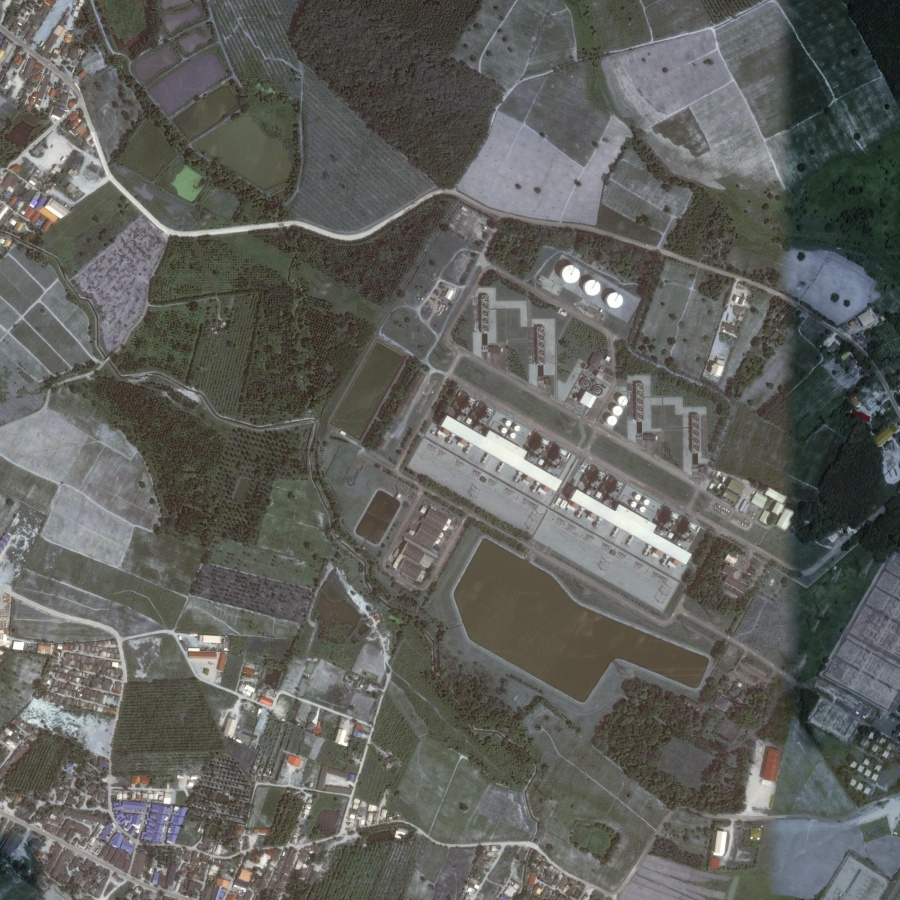PowerPlant: (358, 250, 812, 709)
